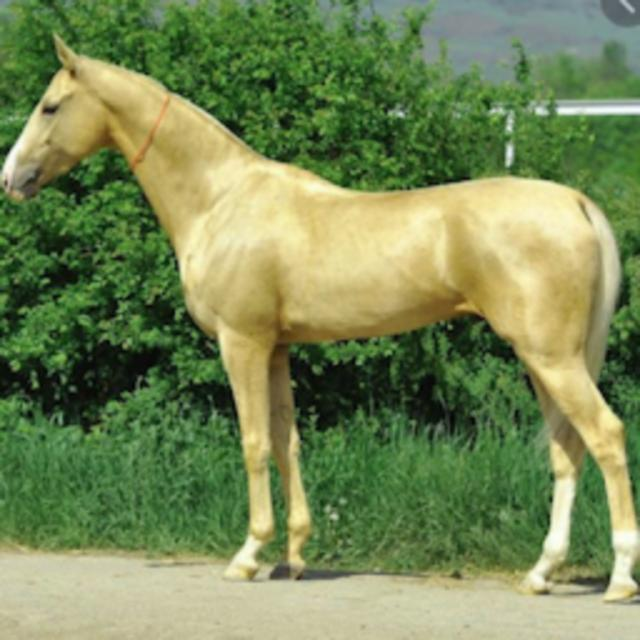Horse: (0, 25, 638, 605)
